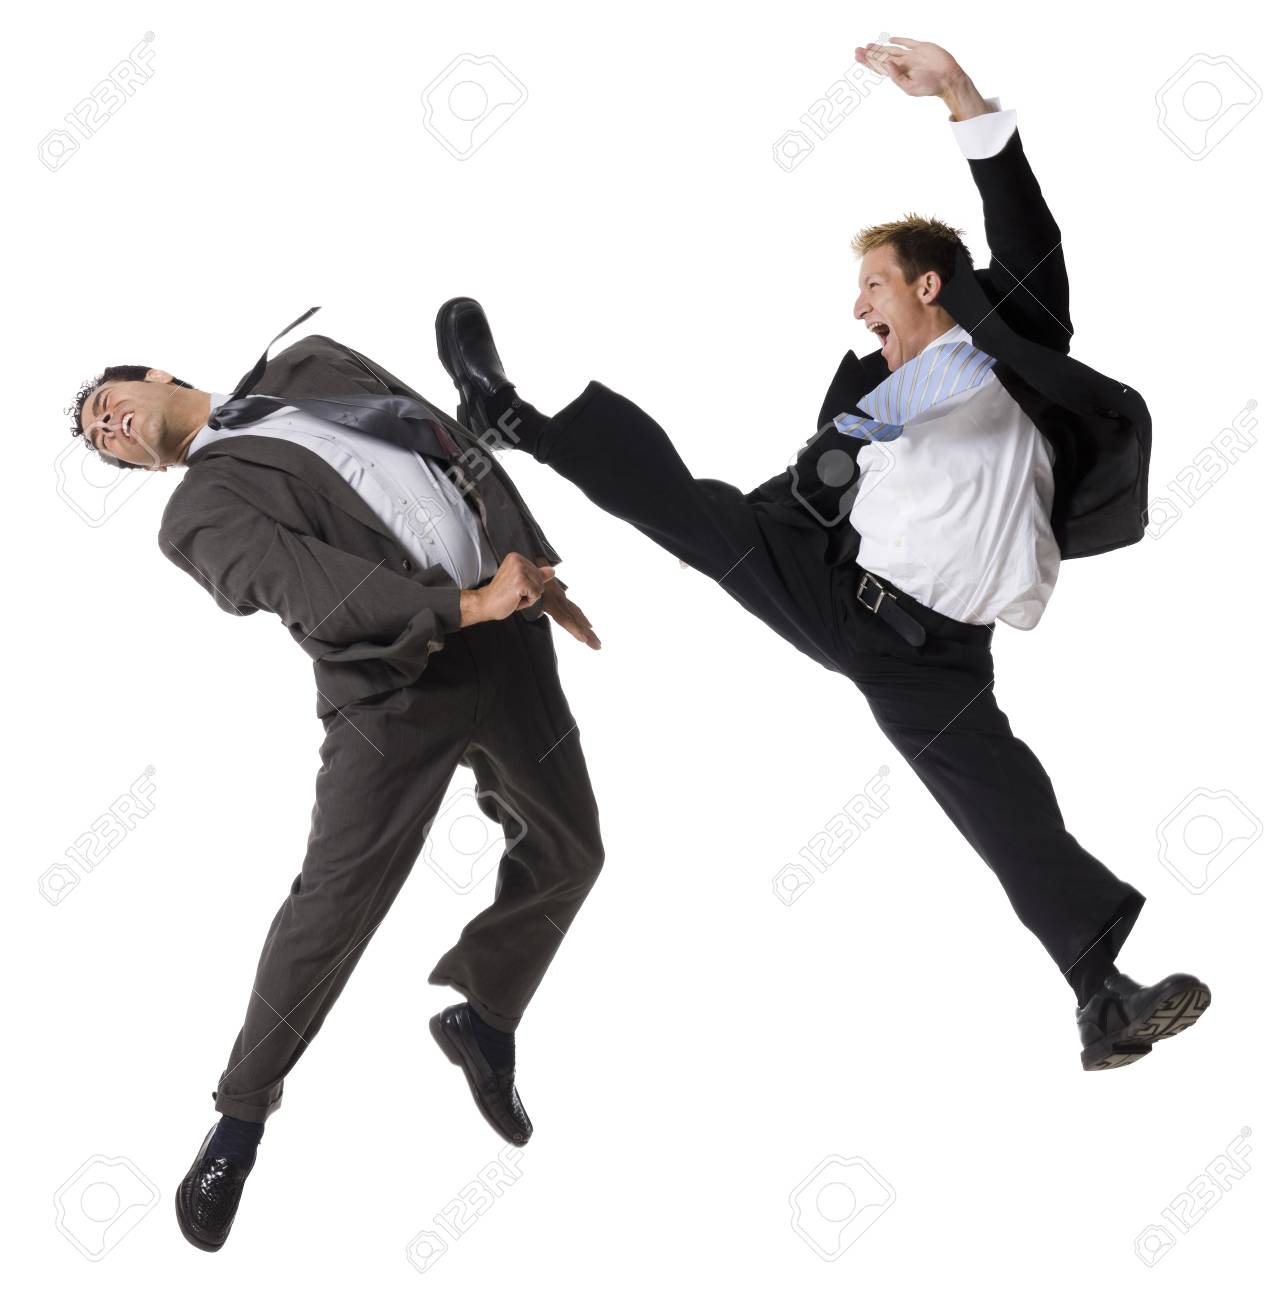Person: (438, 26, 1218, 1087), (73, 303, 618, 1251)
